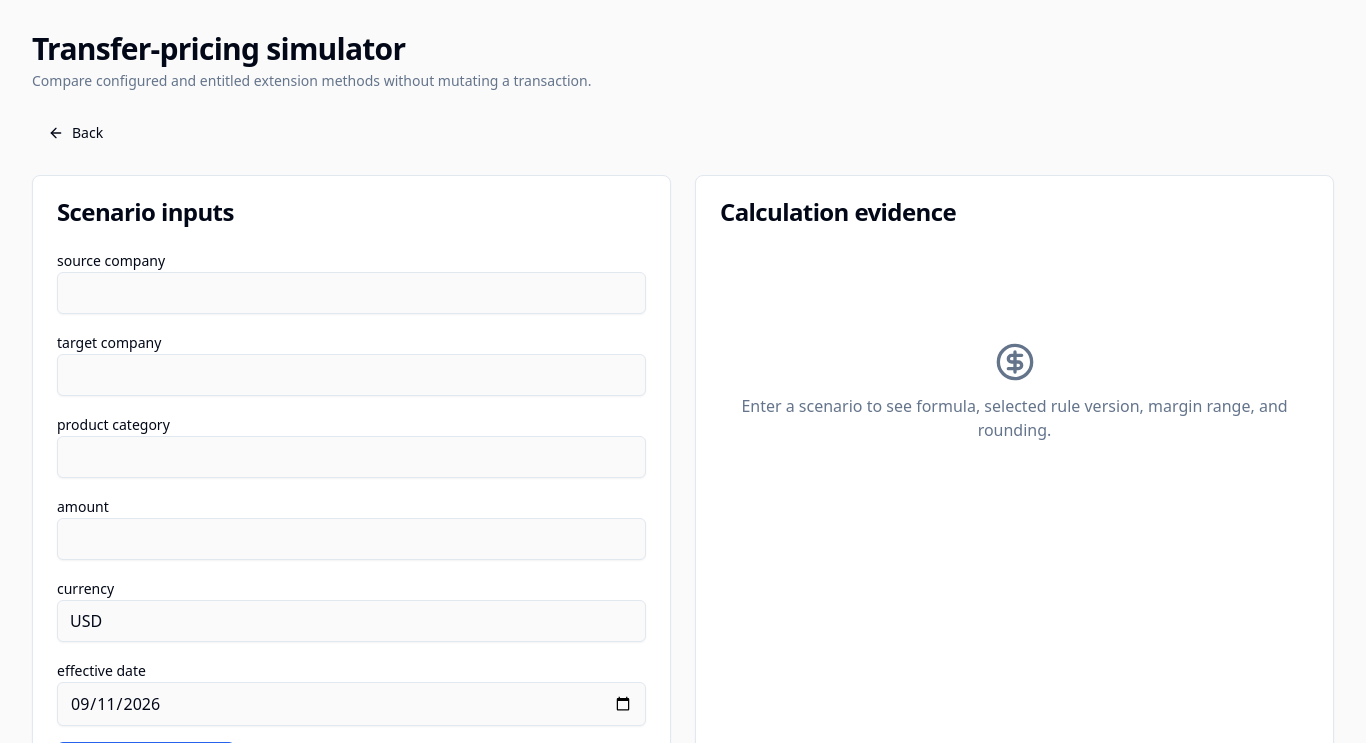
Test: transaction, consolidation, pricing, and configuration workspaces › runs the transfer-pricing simulator without mutating transaction state
Type "company-1" into the field labelled "source company" at (352, 293), box [57,272,646,314]
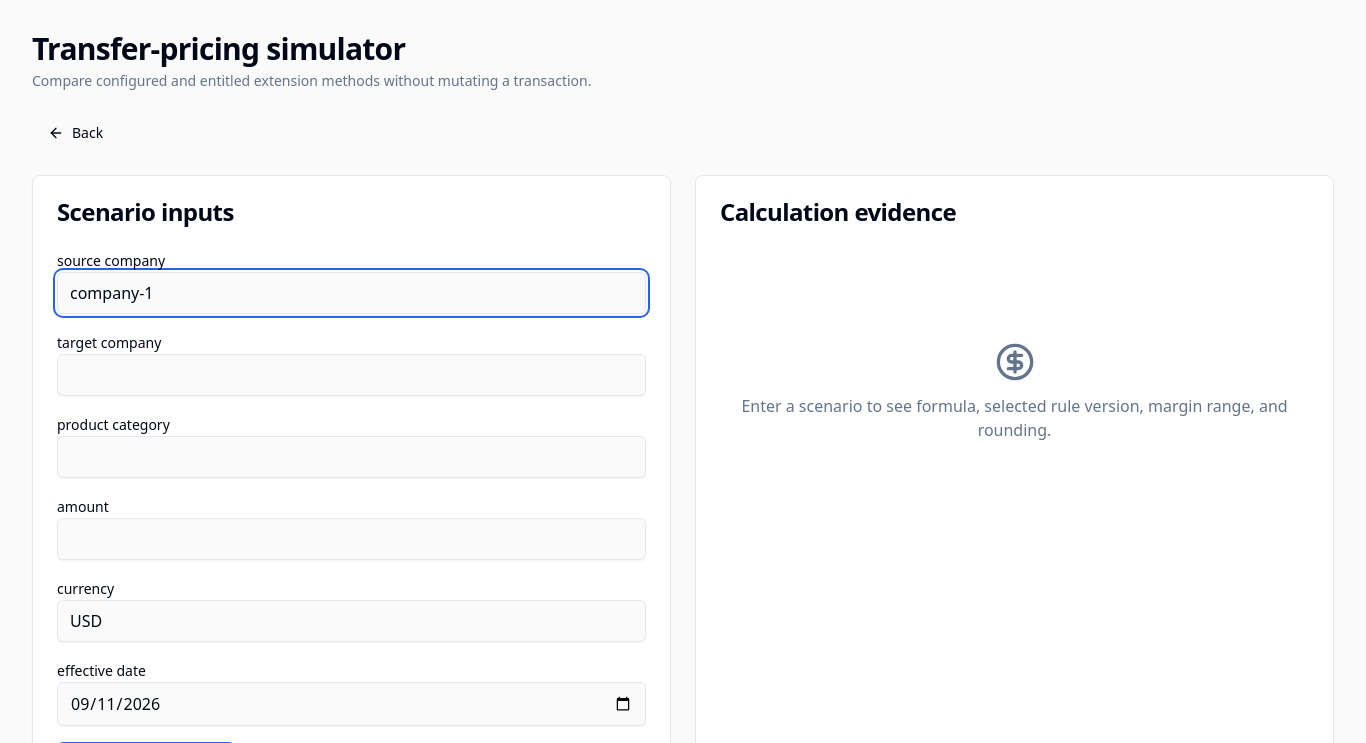
Type "company-2" into the field labelled "target company" at (352, 375), box [57,354,646,396]
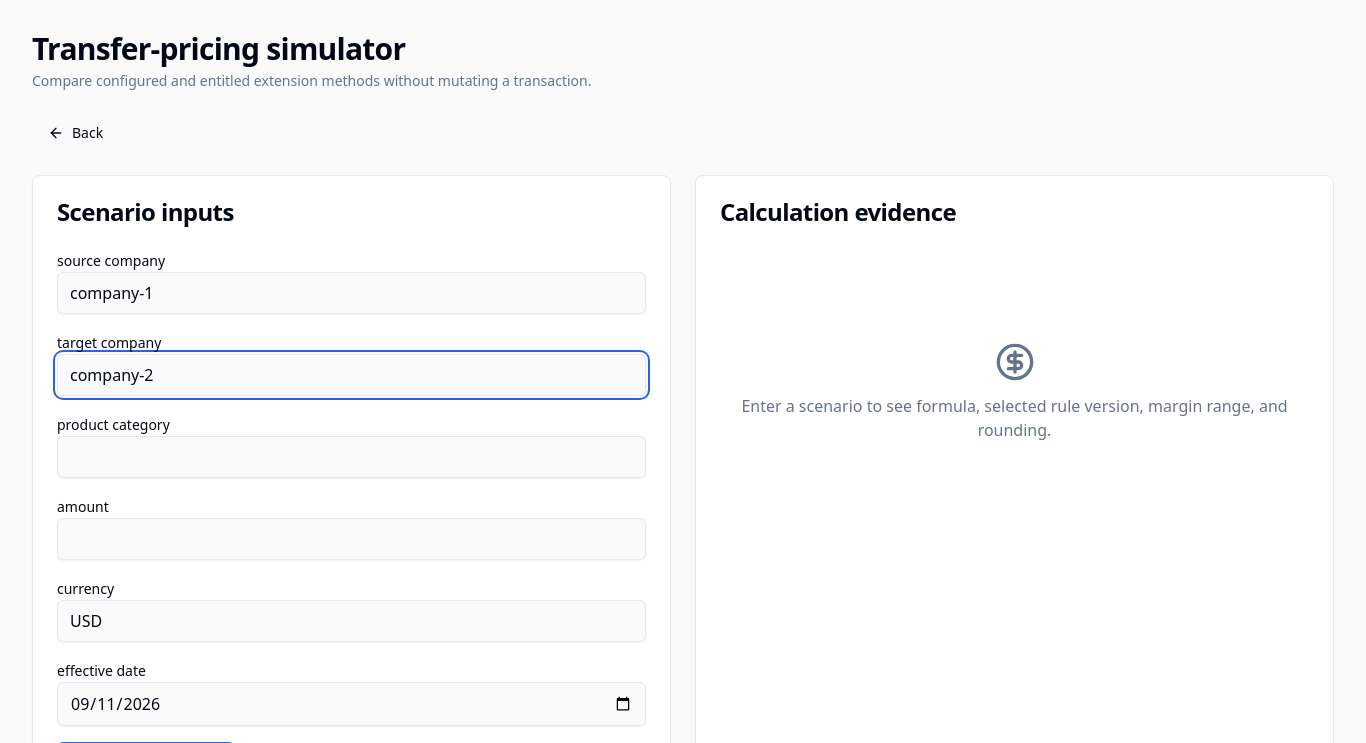
Type "services" into the field labelled "product category" at (352, 457), box [57,436,646,478]
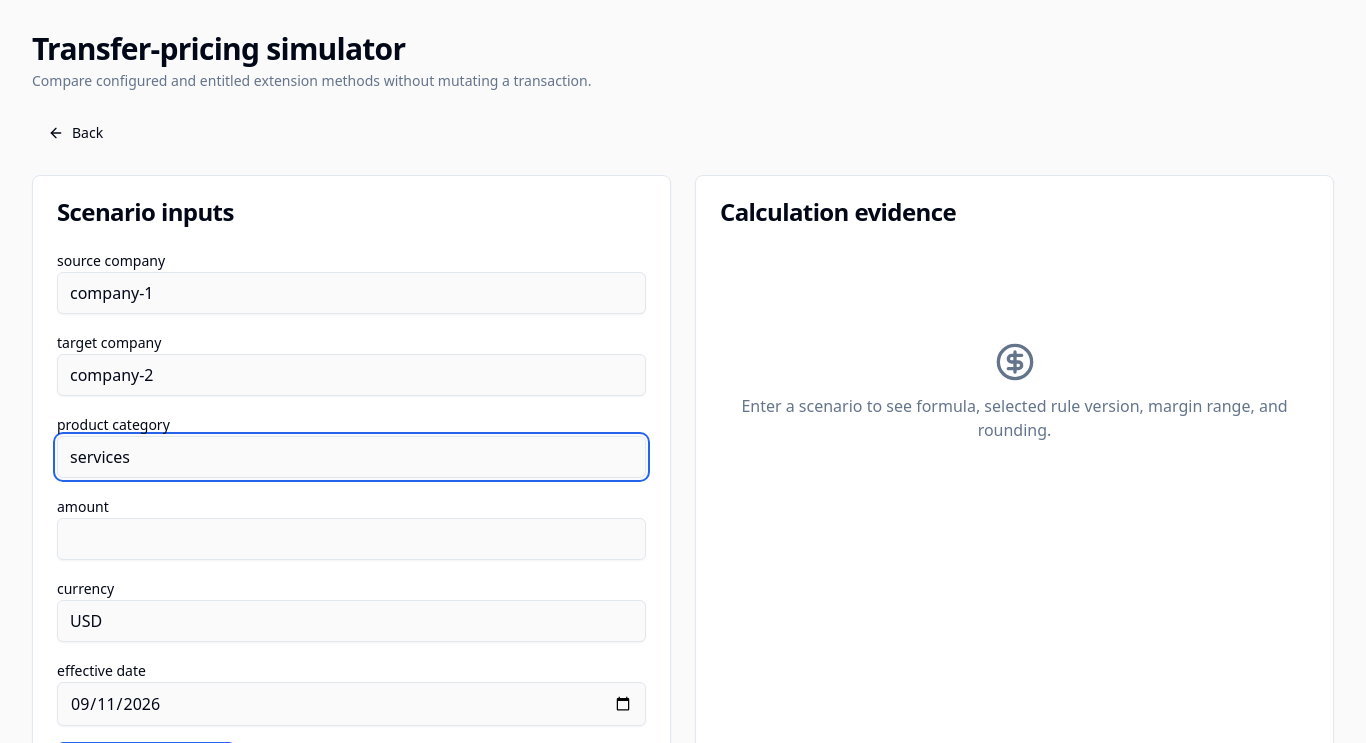
Type "1000" into the number field labelled "amount" at (352, 539), box [57,518,646,560]
(page scrolled)
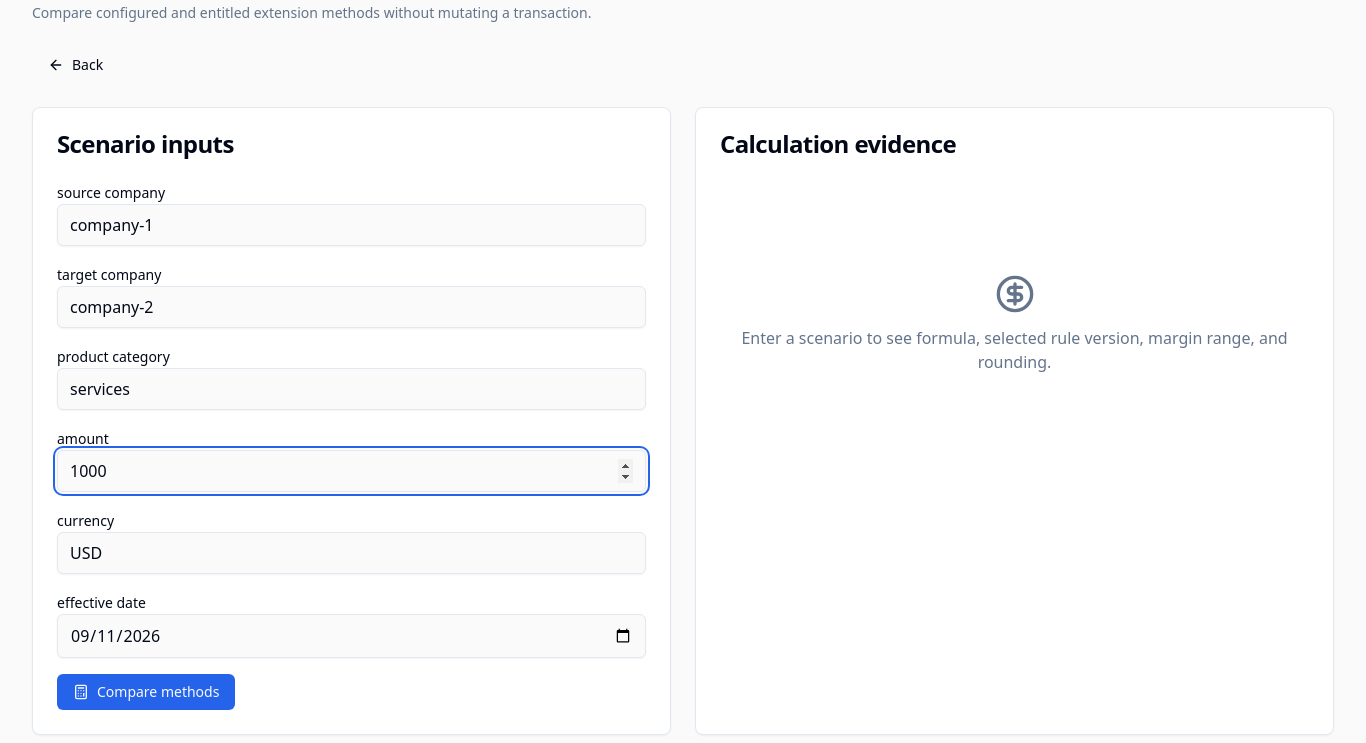
Click the button "Compare methods" at (146, 692), box [57,674,235,710]
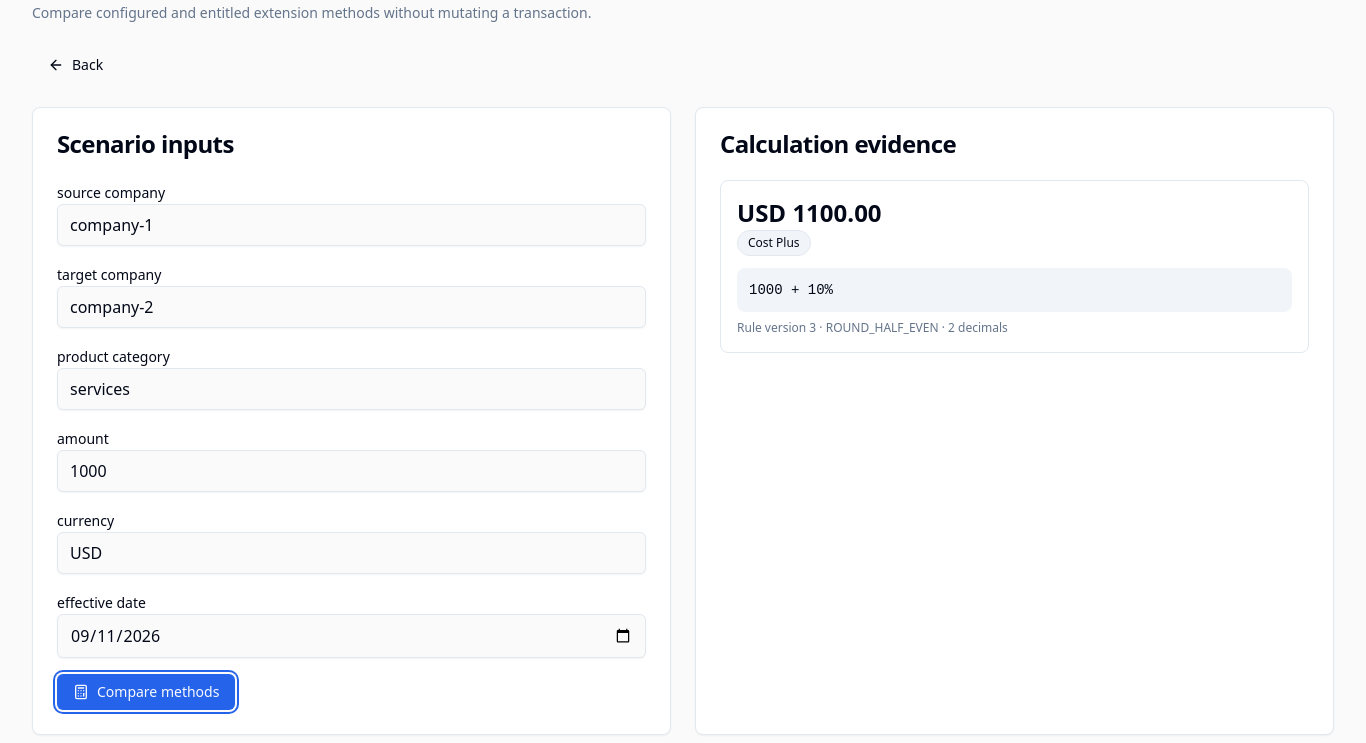
Result: the text "1000 + 10%" is shown at [737,268,1292,312]
